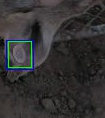text: (8, 41, 31, 67)
